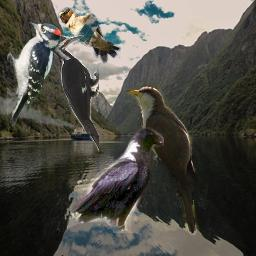Crow: (67, 124, 164, 233)
Cuckoo: (125, 85, 200, 237)
Swallow: (57, 7, 121, 64)
Woodpecker: (39, 35, 99, 152), (7, 19, 63, 127)
